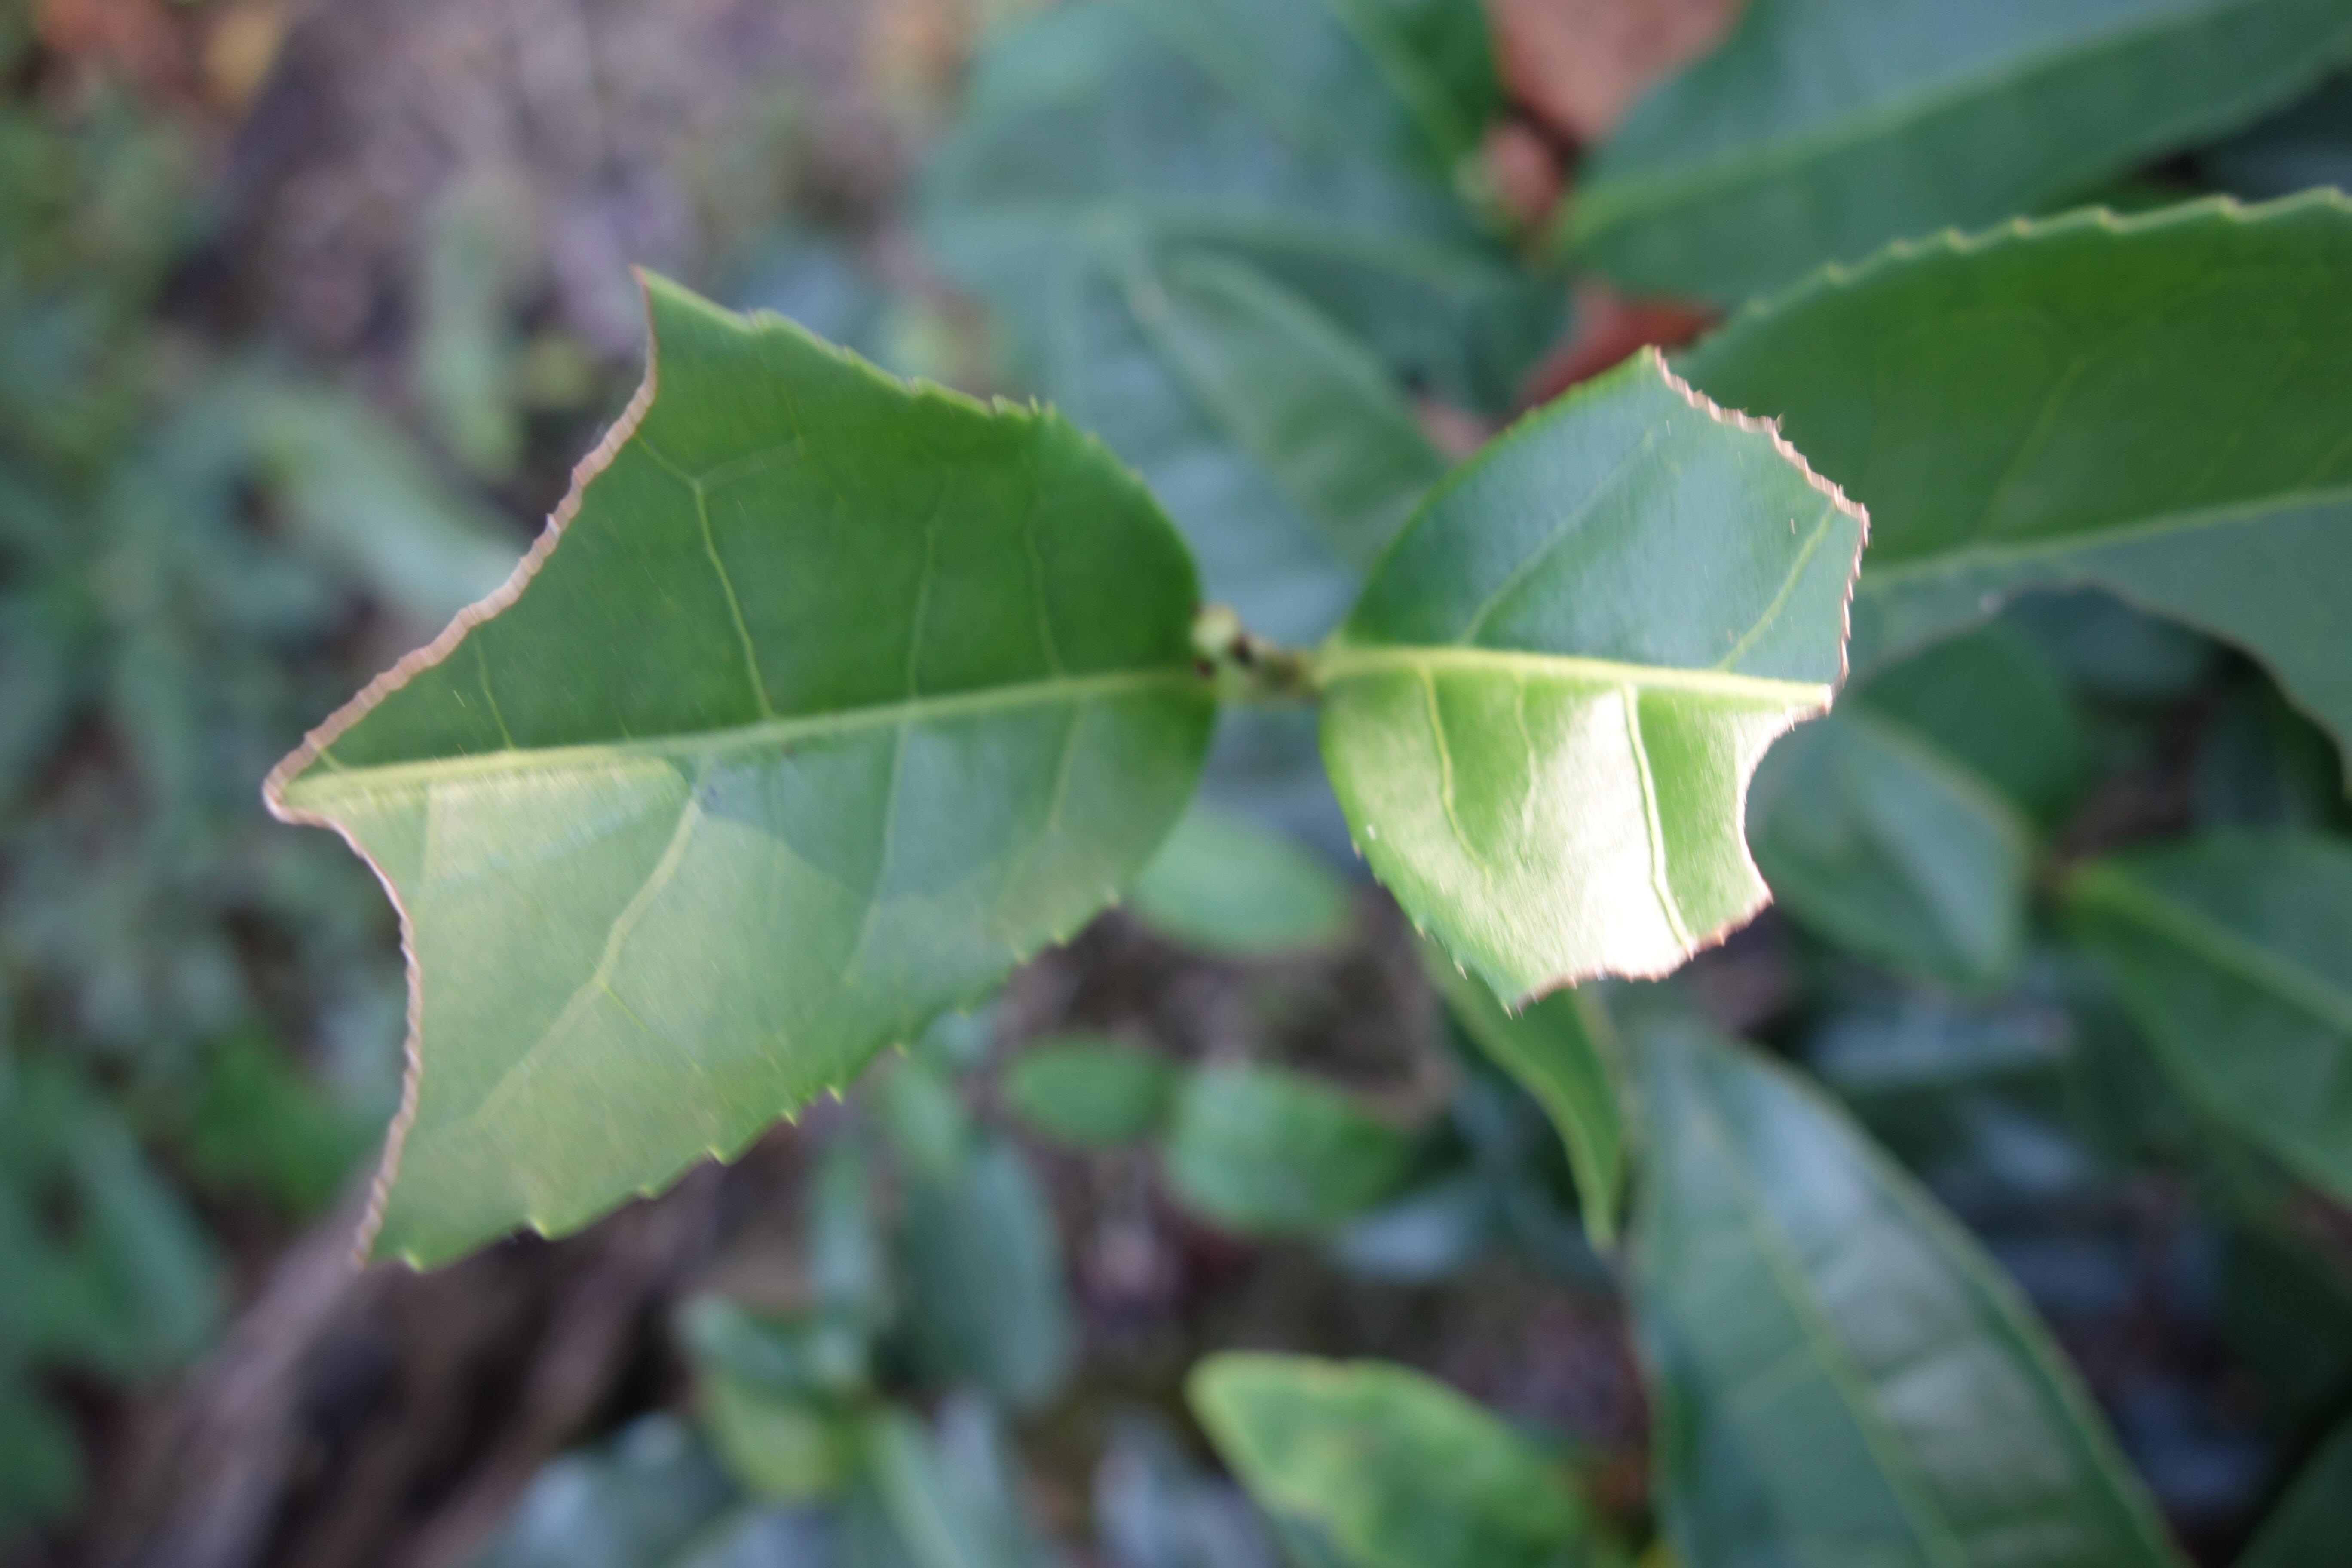chihuo_high: (254, 255, 1237, 1274), (1323, 341, 1885, 1029)
